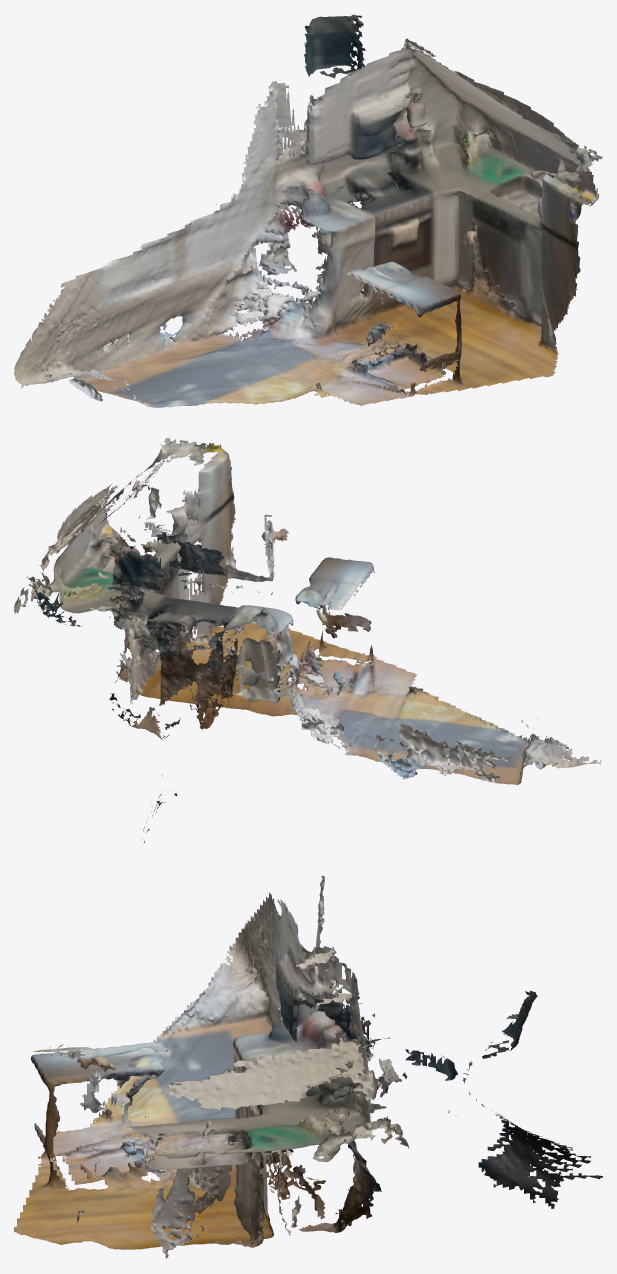
File: scan-49b0238bd9fb.glb
3 views of the same model, one above another, from view 1: azimuth 30°, elevation 25°; view 2: azimuth 150°, elevation 25°; view 3: azimuth 270°, elevation 25° (orthographic). The views are drawn at different scales.
Size of the model in its own units: 4.83 by 2.36 by 3.88.
